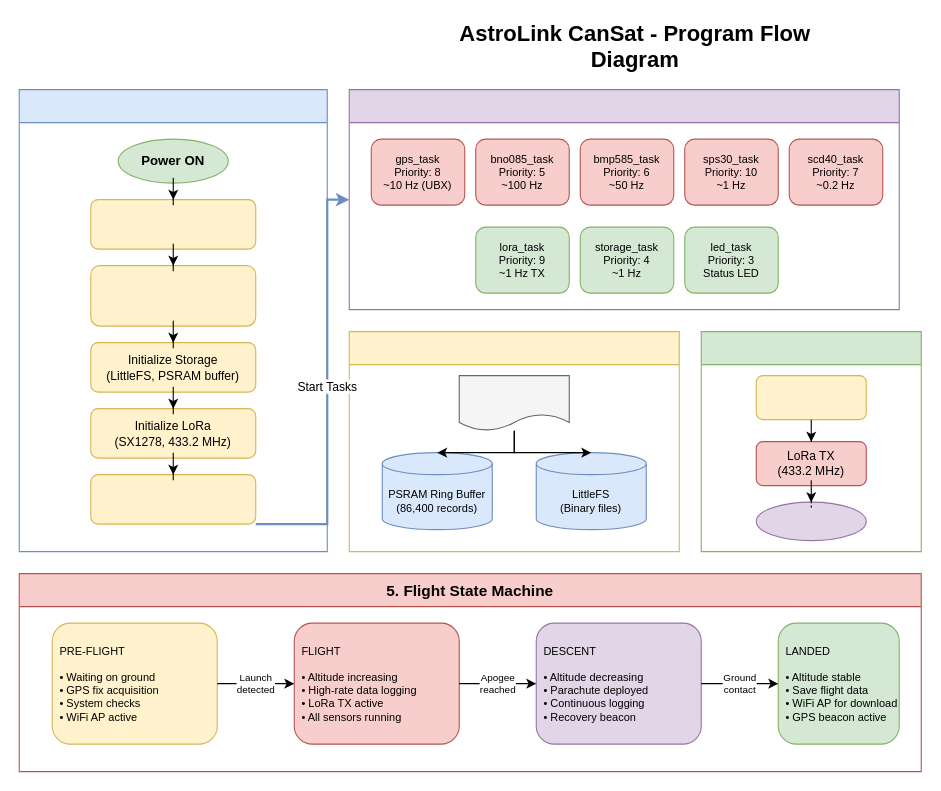
The diagram is 941 pixels wide and 791 high, and some of its shapes have lost their labels. Here are the shapes that lost their labels. From the top down, the box of each, then its label:
(348, 89, 899, 310): 2. FreeRTOS Sensor Tasks (Parallel)
(90, 199, 256, 249): Initialize Hardware (GPIO, UART, SPI, I2C)
(90, 265, 256, 326): Initialize Sensors (BNO085, BMP585, SCD40, QMC5883L, SPS30, GPS)
(18, 89, 327, 552): 1. Initialization Sequence
(458, 375, 569, 431): Sensor Data (64-byte record)
(755, 375, 866, 420): Build Telemetry Packet
(348, 331, 679, 552): 3. Data Collection & Storage
(700, 331, 921, 552): 4. LoRa Transmission
(90, 474, 256, 524): Initialize WiFi AP + HTTP Server
(755, 501, 866, 541): Ground Station
